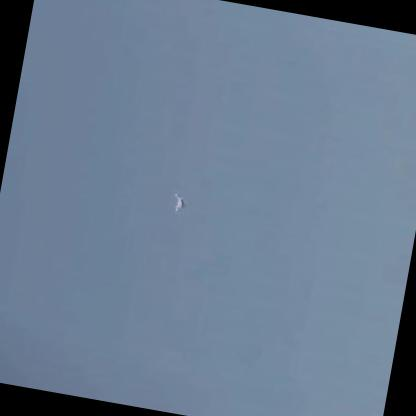plane: (170, 192, 189, 215)
